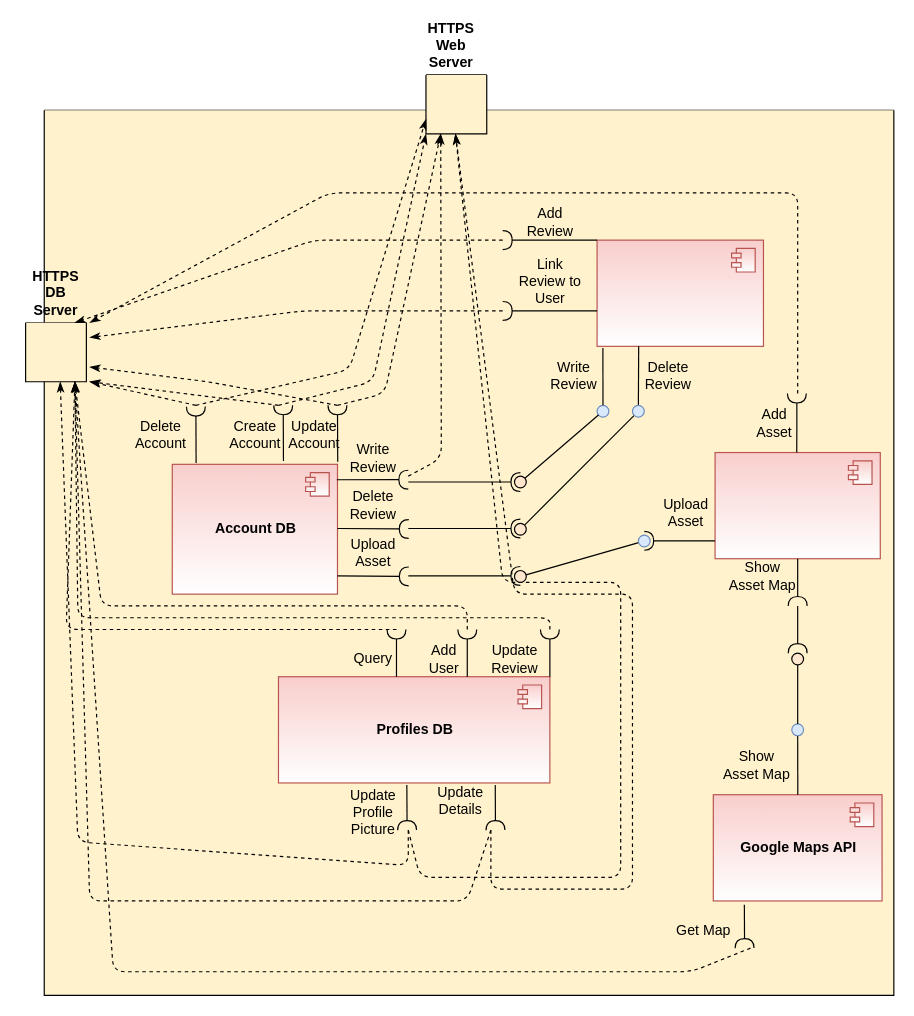
Image size: 914x1016. Some labels were removed from this diagram. Each missing label, with the centre of its shape:
Assets DB: point (797, 505)
Reviews DB: point (679, 292)
